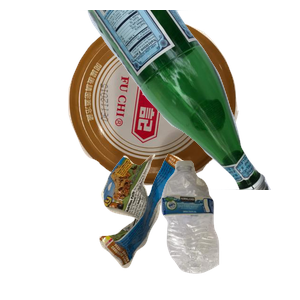glass: (75, 10, 300, 190)
metal: (66, 15, 297, 193)
plastic: (159, 158, 300, 300)
trash: (97, 151, 283, 300)
